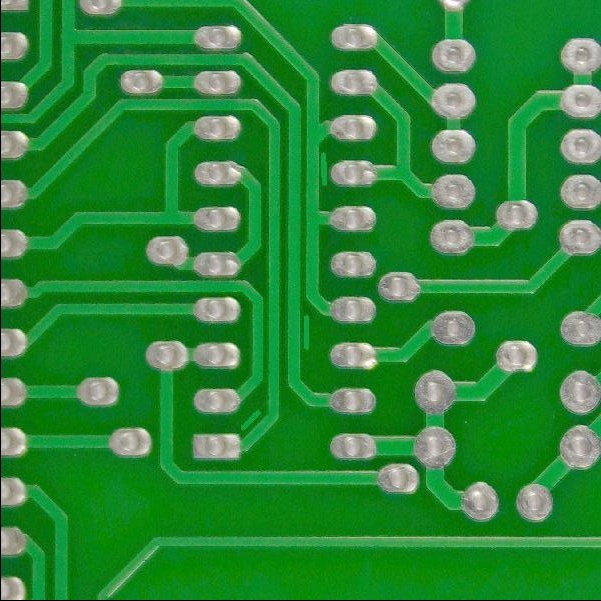spurious_copper: (312, 149, 335, 191), (232, 404, 262, 436), (295, 308, 314, 356)
